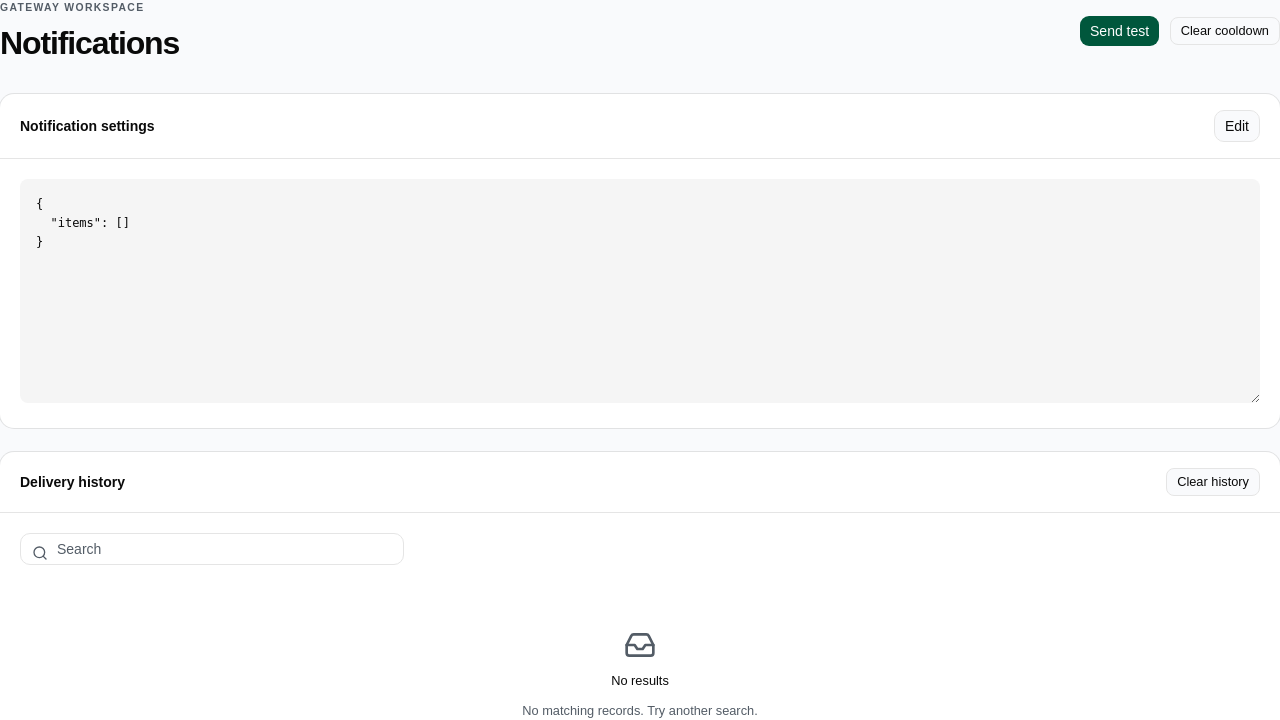
Test: draft ownership › retains notifications settings while failed writes invalidate queries
Click the button "Edit" at (1237, 126), box [1214, 110, 1260, 142]
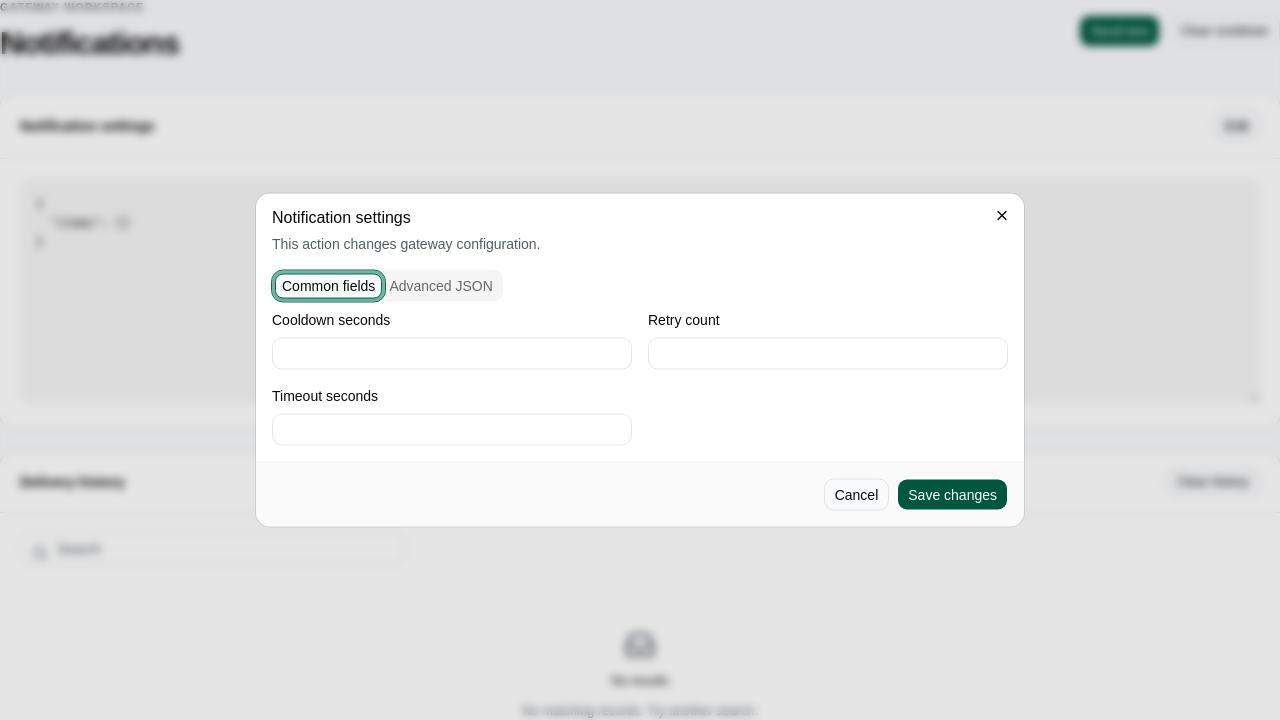
Type "42" into the number field labelled "Cooldown seconds" at (452, 354), box [272, 338, 632, 370]
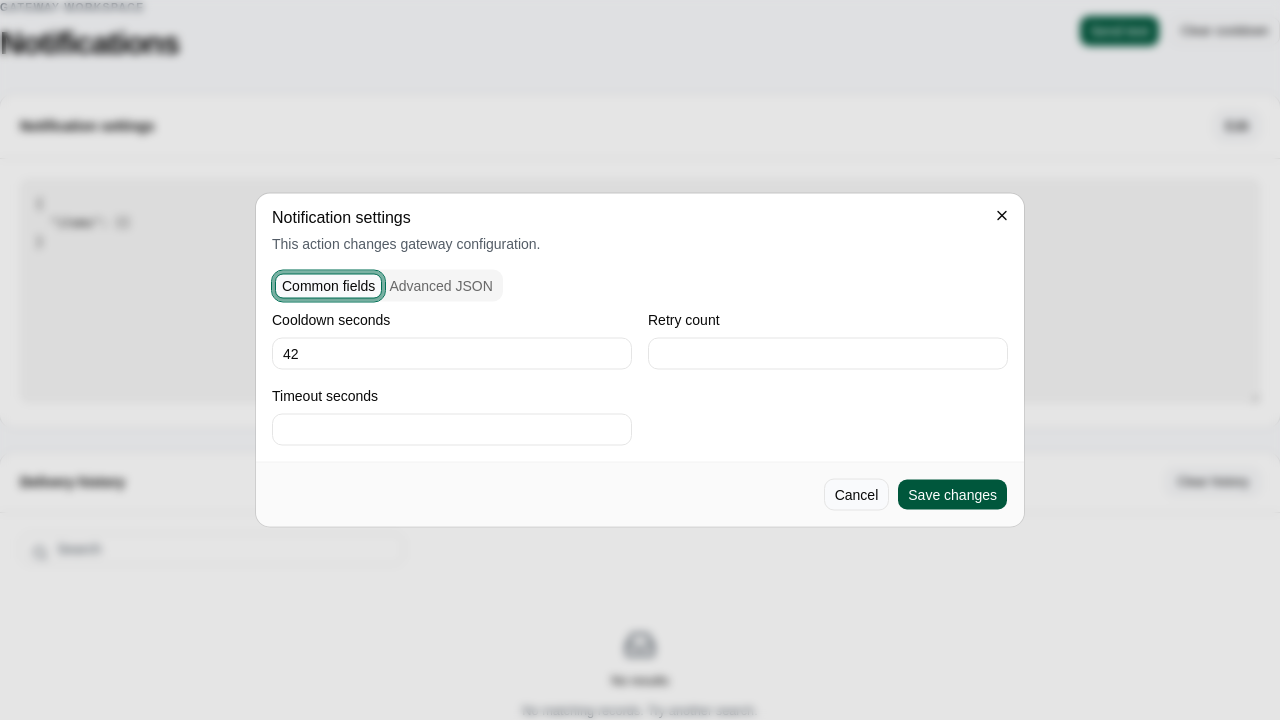
Click the button "Save changes" at (953, 494), box [897, 478, 1008, 510]
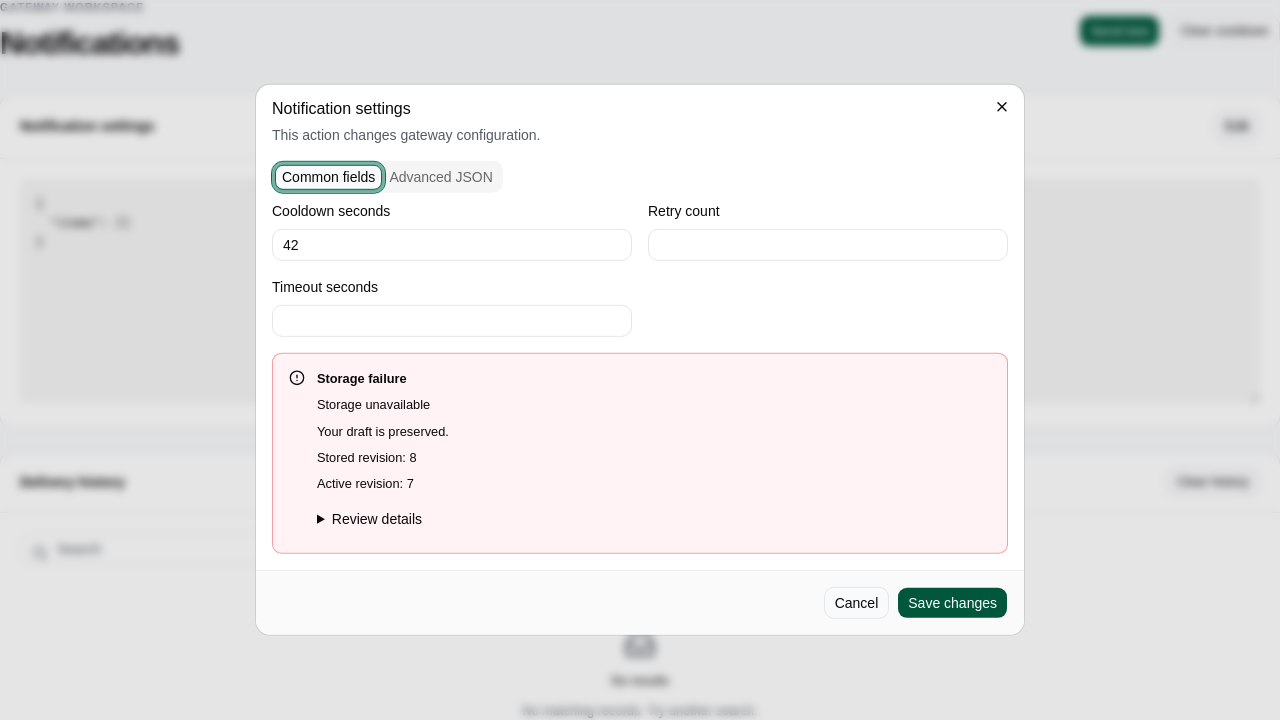
expect the message shows "Storage unavailable": met, box [317, 397, 430, 412]
